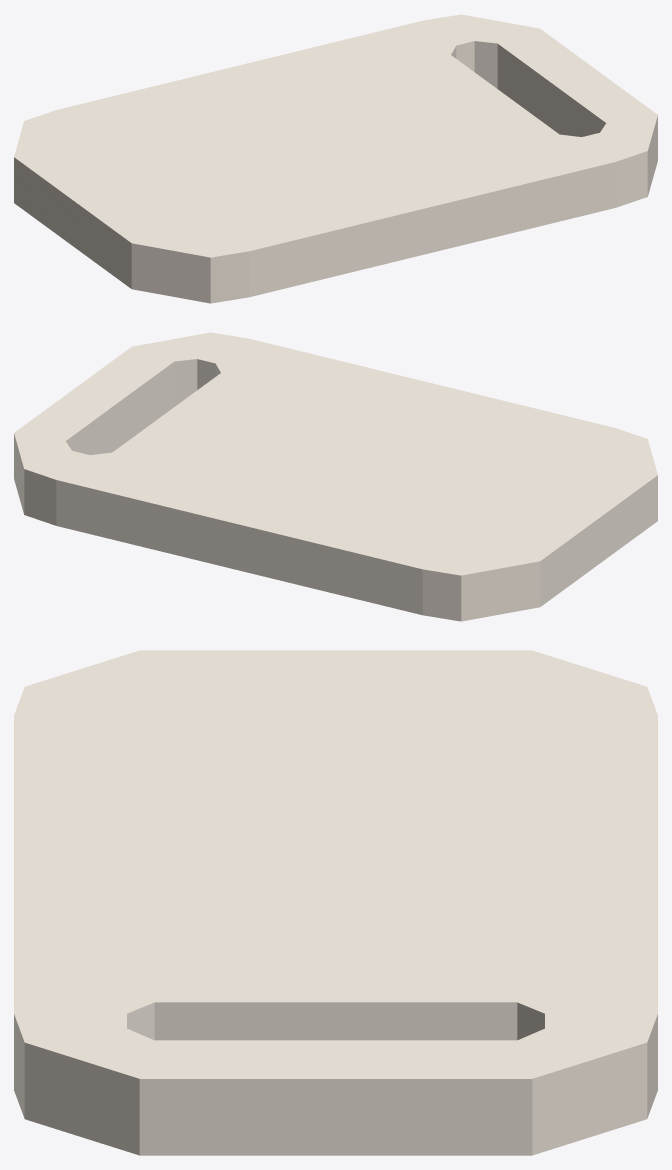
The model's file is cuttingBoard2_PLY.fbx.
3 renders of one model, top to bottom at view 1: azimuth 30°, elevation 25°; view 2: azimuth 150°, elevation 25°; view 3: azimuth 270°, elevation 25°, orthographic. The views are drawn at different scales.
Parts seen in each view (by area): view 1: cuttingBoard2_PLY; view 2: cuttingBoard2_PLY; view 3: cuttingBoard2_PLY.
Boxes of the visible parts, <box> form: cuttingBoard2_PLY: <box>14,14,657,303</box>; cuttingBoard2_PLY: <box>14,332,657,621</box>; cuttingBoard2_PLY: <box>14,650,657,1155</box>.
Size of the model in its own units: 2.16 by 0.1802 by 1.37.
